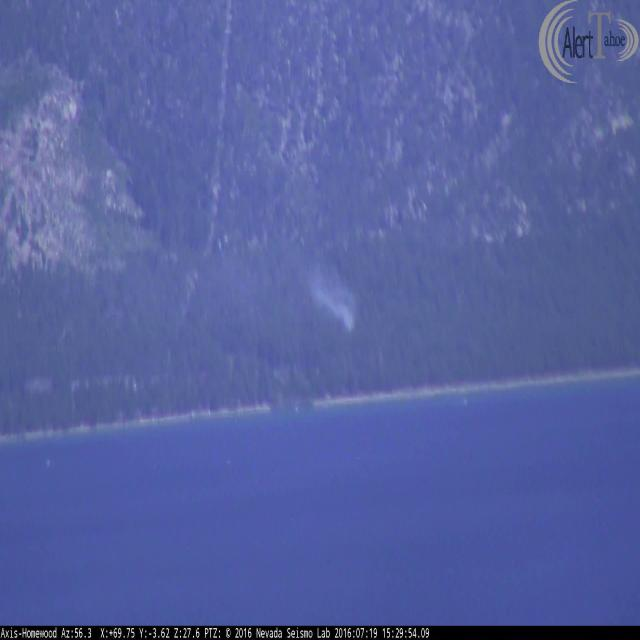smoke: (304, 244, 362, 332)
